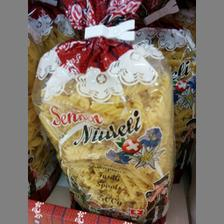Nudeln: (30, 33, 174, 222)
